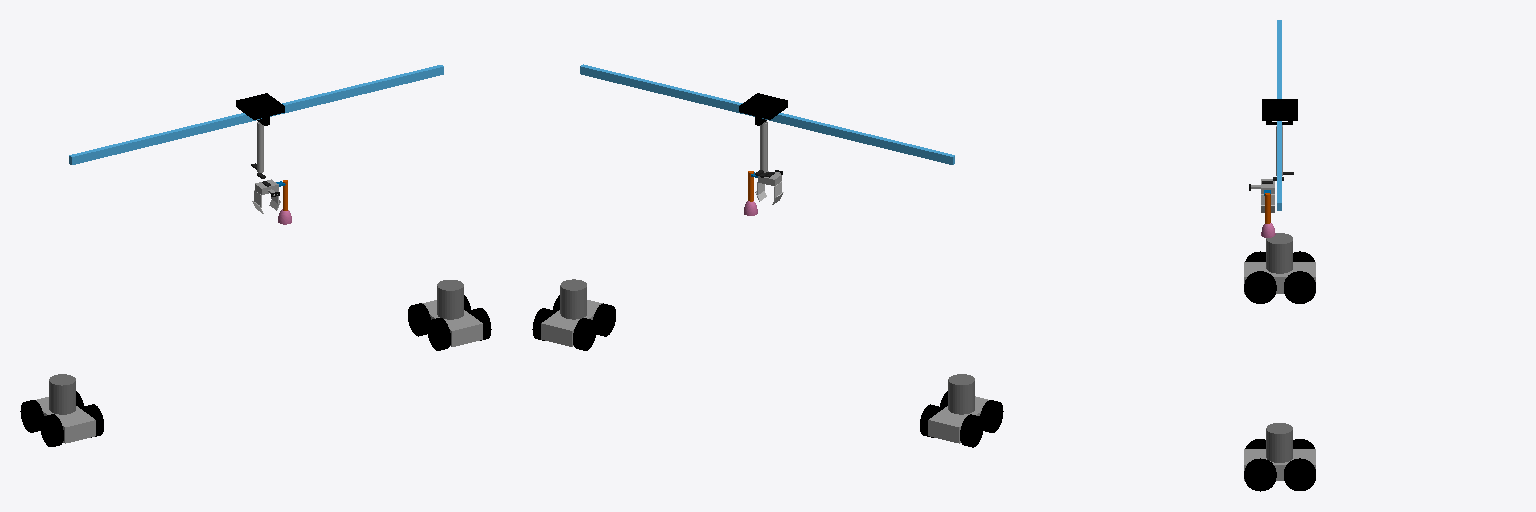
--- Render facts (derived) ---
3 views of the same robot in one strip: view 1: azimuth 30°, elevation 25°; view 2: azimuth 150°, elevation 25°; view 3: azimuth 270°, elevation 25° (orthographic).
Robot: bot — 50 links, 49 joints (1 revolute, 10 continuous, 5 prismatic, 33 fixed); root link Untitled.052; default pose: every joint at zero.
Visible links, largest first — view 1: Untitled.052, Untitled.004, Untitled.009, Untitled.046, Untitled.045, Untitled.026, Untitled.008, Untitled.017, Untitled.007, Untitled.011; view 2: Untitled.052, Untitled.004, Untitled.009, Untitled.046, Untitled.045, Untitled.026, Untitled.007, Untitled.011, Untitled.008, Untitled.017; view 3: Untitled.045, Untitled.046, Untitled.005, Untitled.015, Untitled.006, Untitled.013, Untitled.052, Untitled.026, Untitled.004, Untitled.009.
Link boxes in pixels (left/top/right/bottom): Untitled.052: left=69, top=65, right=443, bottom=164; Untitled.004: left=36, top=397, right=95, bottom=443; Untitled.009: left=422, top=300, right=482, bottom=346; Untitled.046: left=49, top=374, right=75, bottom=414; Untitled.045: left=437, top=280, right=463, bottom=319; Untitled.026: left=236, top=93, right=284, bottom=119; Untitled.008: left=40, top=414, right=63, bottom=446; Untitled.017: left=427, top=318, right=450, bottom=350; Untitled.007: left=20, top=400, right=43, bottom=432; Untitled.011: left=408, top=303, right=430, bottom=336; Untitled.052: left=580, top=64, right=954, bottom=164; Untitled.004: left=928, top=396, right=988, bottom=443; Untitled.009: left=541, top=300, right=602, bottom=346; Untitled.046: left=948, top=374, right=974, bottom=414; Untitled.045: left=560, top=279, right=586, bottom=319; Untitled.026: left=739, top=93, right=787, bottom=119; Untitled.007: left=960, top=414, right=983, bottom=447; Untitled.011: left=573, top=318, right=596, bottom=350; Untitled.008: left=980, top=400, right=1003, bottom=432; Untitled.017: left=593, top=303, right=615, bottom=336; Untitled.045: left=1266, top=423, right=1292, bottom=462; Untitled.046: left=1266, top=233, right=1292, bottom=273; Untitled.005: left=1244, top=271, right=1276, bottom=303; Untitled.015: left=1244, top=458, right=1276, bottom=491; Untitled.006: left=1284, top=271, right=1315, bottom=303; Untitled.013: left=1284, top=458, right=1315, bottom=490; Untitled.052: left=1277, top=20, right=1281, bottom=210; Untitled.026: left=1262, top=99, right=1297, bottom=120; Untitled.004: left=1244, top=262, right=1315, bottom=293; Untitled.009: left=1244, top=449, right=1315, bottom=480.
Size in the robot's own frame: 2.81 by 0.4022 by 1.74 metres.
Meshes: 10 distinct files referenced, 3 mesh visuals loaded (3 binary STL); not drawn: 7 (reference not matched to a file when rendering).

robot.urdf — bot:
<?xml version="1.0"?>
<!-- created with Phobos 1.0.1 "Capricious Choutengan" -->
  <robot name="bot">

    <link name="Untitled">
      <inertial>
        <origin xyz="0 0 0" rpy="0 0 0"/>
        <mass value="0.001"/>
        <inertia ixx="0.001" ixy="0" ixz="0" iyy="0.001" iyz="0" izz="0.001"/>
      </inertial>
    </link>

    <link name="Untitled.001">
      <inertial>
        <origin xyz="0 0 0" rpy="0 0 0"/>
        <mass value="0.001"/>
        <inertia ixx="0.001" ixy="0" ixz="0" iyy="0.001" iyz="0" izz="0.001"/>
      </inertial>
    </link>

    <link name="Untitled.002">
      <inertial>
        <origin xyz="0 0 0" rpy="0 0 0"/>
        <mass value="0.001"/>
        <inertia ixx="0.001" ixy="0" ixz="0" iyy="0.001" iyz="0" izz="0.001"/>
      </inertial>
    </link>

    <link name="Untitled.003">
      <inertial>
        <origin xyz="0 0 0" rpy="0 0 0"/>
        <mass value="0.001"/>
        <inertia ixx="0.001" ixy="0" ixz="0" iyy="0.001" iyz="0" izz="0.001"/>
      </inertial>
    </link>

    <link name="Untitled.004">
      <inertial>
        <origin xyz="0 0 0" rpy="0 0 0"/>
        <mass value="4.0"/>
        <inertia ixx="0.00043" ixy="0" ixz="0" iyy="0.00145" iyz="0" izz="0.06667"/>
      </inertial>
      <visual name="base link.000">
        <origin xyz="0 0 0" rpy="0 0 0"/>
        <geometry>
          <box size="0.4 0.2 0.1"/>
        </geometry>
        <material name="Material.005"/>
      </visual>
      <collision name="base link.000">
        <origin xyz="0 0 0" rpy="0 0 0"/>
        <geometry>
          <box size="0.4 0.2 0.1"/>
        </geometry>
      </collision>
    </link>

    <link name="Untitled.005">
      <inertial>
        <origin xyz="0 0 0" rpy="0 0 0"/>
        <mass value="0.25"/>
        <inertia ixx="7e-05" ixy="0" ixz="0" iyy="0.00013" iyz="0" izz="0.00056"/>
      </inertial>
      <visual name="bl Link.000">
        <origin xyz="-0.0022 0 0" rpy="-3.14159 0 0"/>
        <geometry>
          <cylinder radius="0.09" length="0.05"/>
        </geometry>
        <material name="Material.004"/>
      </visual>
      <collision name="bl Link.000">
        <origin xyz="-0.0022 0 0" rpy="-3.14159 0 0"/>
        <geometry>
          <cylinder radius="0.09" length="0.05"/>
        </geometry>
      </collision>
    </link>

    <link name="Untitled.006">
      <inertial>
        <origin xyz="0 0 0" rpy="0 0 0"/>
        <mass value="0.25"/>
        <inertia ixx="7e-05" ixy="0" ixz="0" iyy="0.00013" iyz="0" izz="0.00056"/>
      </inertial>
      <visual name="bl Link.002.000">
        <origin xyz="-0.0022 0 0" rpy="-3.14159 0 0"/>
        <geometry>
          <cylinder radius="0.09" length="0.05"/>
        </geometry>
        <material name="Material.001"/>
      </visual>
      <collision name="bl Link.002.000">
        <origin xyz="-0.0022 0 0" rpy="-3.14159 0 0"/>
        <geometry>
          <cylinder radius="0.09" length="0.05"/>
        </geometry>
      </collision>
    </link>

    <link name="Untitled.007">
      <inertial>
        <origin xyz="0 0 0" rpy="0 0 0"/>
        <mass value="0.25"/>
        <inertia ixx="7e-05" ixy="0" ixz="0" iyy="0.00013" iyz="0" izz="0.00056"/>
      </inertial>
      <visual name="bl Link.003.000">
        <origin xyz="-0.0022 0 0" rpy="0 0 0"/>
        <geometry>
          <cylinder radius="0.09" length="0.05"/>
        </geometry>
        <material name="Material.002"/>
      </visual>
      <collision name="bl Link.003.000">
        <origin xyz="-0.0022 0 0" rpy="0 0 0"/>
        <geometry>
          <cylinder radius="0.09" length="0.05"/>
        </geometry>
      </collision>
    </link>

    <link name="Untitled.008">
      <inertial>
        <origin xyz="0 0 0" rpy="0 0 0"/>
        <mass value="0.25"/>
        <inertia ixx="7e-05" ixy="0" ixz="0" iyy="0.00013" iyz="0" izz="0.00056"/>
      </inertial>
      <visual name="bl Link.001.000">
        <origin xyz="-0.0022 0 0" rpy="0 0 0"/>
        <geometry>
          <cylinder radius="0.09" length="0.05"/>
        </geometry>
        <material name="Material.003"/>
      </visual>
      <collision name="bl Link.001.000">
        <origin xyz="-0.0022 0 0" rpy="0 0 0"/>
        <geometry>
          <cylinder radius="0.09" length="0.05"/>
        </geometry>
      </collision>
    </link>

    <link name="Untitled.009">
      <inertial>
        <origin xyz="0 0 0" rpy="0 0 0"/>
        <mass value="4.0"/>
        <inertia ixx="0.00043" ixy="0" ixz="0" iyy="0.00145" iyz="0" izz="0.06667"/>
      </inertial>
      <visual name="base link.001">
        <origin xyz="0 0 0" rpy="0 0 0"/>
        <geometry>
          <box size="0.4 0.2 0.1"/>
        </geometry>
        <material name="Material.005"/>
      </visual>
      <collision name="base link.000">
        <origin xyz="0 0 0" rpy="0 0 0"/>
        <geometry>
          <box size="0.4 0.2 0.1"/>
        </geometry>
      </collision>
    </link>

    <link name="Untitled.010">
      <inertial>
        <origin xyz="0 0 0" rpy="0 0 0"/>
        <mass value="0.001"/>
        <inertia ixx="0.001" ixy="0" ixz="0" iyy="0.001" iyz="0" izz="0.001"/>
      </inertial>
    </link>

    <link name="Untitled.011">
      <inertial>
        <origin xyz="0 0 0" rpy="0 0 0"/>
        <mass value="0.25"/>
        <inertia ixx="7e-05" ixy="0" ixz="0" iyy="0.00013" iyz="0" izz="0.00056"/>
      </inertial>
      <visual name="bl Link.003.001">
        <origin xyz="-0.0022 0 0" rpy="0 0 0"/>
        <geometry>
          <cylinder radius="0.09" length="0.05"/>
        </geometry>
        <material name="Material.002"/>
      </visual>
      <collision name="bl Link.003.000">
        <origin xyz="-0.0022 0 0" rpy="0 0 0"/>
        <geometry>
          <cylinder radius="0.09" length="0.05"/>
        </geometry>
      </collision>
    </link>

    <link name="Untitled.012">
      <inertial>
        <origin xyz="0 0 0" rpy="0 0 0"/>
        <mass value="0.001"/>
        <inertia ixx="0.001" ixy="0" ixz="0" iyy="0.001" iyz="0" izz="0.001"/>
      </inertial>
    </link>

    <link name="Untitled.013">
      <inertial>
        <origin xyz="0 0 0" rpy="0 0 0"/>
        <mass value="0.25"/>
        <inertia ixx="7e-05" ixy="0" ixz="0" iyy="0.00013" iyz="0" izz="0.00056"/>
      </inertial>
      <visual name="bl Link.002.001">
        <origin xyz="-0.0022 0 0" rpy="-3.14159 0 0"/>
        <geometry>
          <cylinder radius="0.09" length="0.05"/>
        </geometry>
        <material name="Material.001"/>
      </visual>
      <collision name="bl Link.002.000">
        <origin xyz="-0.0022 0 0" rpy="-3.14159 0 0"/>
        <geometry>
          <cylinder radius="0.09" length="0.05"/>
        </geometry>
      </collision>
    </link>

    <link name="Untitled.014">
      <inertial>
        <origin xyz="0 0 0" rpy="0 0 0"/>
        <mass value="0.001"/>
        <inertia ixx="0.001" ixy="0" ixz="0" iyy="0.001" iyz="0" izz="0.001"/>
      </inertial>
    </link>

    <link name="Untitled.015">
      <inertial>
        <origin xyz="0 0 0" rpy="0 0 0"/>
        <mass value="0.25"/>
        <inertia ixx="7e-05" ixy="0" ixz="0" iyy="0.00013" iyz="0" izz="0.00056"/>
      </inertial>
      <visual name="bl Link.001">
        <origin xyz="-0.0022 0 0" rpy="-3.14159 0 0"/>
        <geometry>
          <cylinder radius="0.09" length="0.05"/>
        </geometry>
        <material name="Material.004"/>
      </visual>
      <collision name="bl Link.000">
        <origin xyz="-0.0022 0 0" rpy="-3.14159 0 0"/>
        <geometry>
          <cylinder radius="0.09" length="0.05"/>
        </geometry>
      </collision>
    </link>

    <link name="Untitled.016">
      <inertial>
        <origin xyz="0 0 0" rpy="0 0 0"/>
        <mass value="0.001"/>
        <inertia ixx="0.001" ixy="0" ixz="0" iyy="0.001" iyz="0" izz="0.001"/>
      </inertial>
    </link>

    <link name="Untitled.017">
      <inertial>
        <origin xyz="0 0 0" rpy="0 0 0"/>
        <mass value="0.25"/>
        <inertia ixx="7e-05" ixy="0" ixz="0" iyy="0.00013" iyz="0" izz="0.00056"/>
      </inertial>
      <visual name="bl Link.001.001">
        <origin xyz="-0.0022 0 0" rpy="0 0 0"/>
        <geometry>
          <cylinder radius="0.09" length="0.05"/>
        </geometry>
        <material name="Material.003"/>
      </visual>
      <collision name="bl Link.001.000">
        <origin xyz="-0.0022 0 0" rpy="0 0 0"/>
        <geometry>
          <cylinder radius="0.09" length="0.05"/>
        </geometry>
      </collision>
    </link>

    <link name="Untitled.021">
      <inertial>
        <origin xyz="0 0 0.01" rpy="0 0 0"/>
        <mass value="0.01"/>
        <inertia ixx="2e-05" ixy="0" ixz="0" iyy="2e-05" iyz="0" izz="2e-05"/>
      </inertial>
      <visual name="Cube.003">
        <origin xyz="0 0 0.01" rpy="0 0 0"/>
        <geometry>
          <box size="0.15 0.03 0.01"/>
        </geometry>
        <material name="Material.009"/>
      </visual>
      <collision name="Cube.003">
        <origin xyz="0 0 0.01" rpy="0 0 0"/>
        <geometry>
          <box size="0.15 0.03 0.01"/>
        </geometry>
      </collision>
    </link>

    <link name="Untitled.022">
      <inertial>
        <origin xyz="0 0 0" rpy="0 0 0"/>
        <mass value="0.05"/>
        <inertia ixx="2e-05" ixy="0" ixz="0" iyy="2e-05" iyz="0" izz="2e-05"/>
      </inertial>
      <visual name="Cube.002">
        <origin xyz="0 0 0" rpy="0 0 0"/>
        <geometry>
          <box size="0.03 0.03 0.06"/>
        </geometry>
        <material name="Material.010"/>
      </visual>
      <collision name="Cube.002">
        <origin xyz="0 0 0" rpy="0 0 0"/>
        <geometry>
          <box size="0.03 0.03 0.06"/>
        </geometry>
      </collision>
    </link>

    <link name="Untitled.023">
      <inertial>
        <origin xyz="0 0 0" rpy="0 0 0"/>
        <mass value="0.05"/>
        <inertia ixx="2e-05" ixy="0" ixz="0" iyy="2e-05" iyz="0" izz="2e-05"/>
      </inertial>
      <visual name="Cube.001">
        <origin xyz="0 0 0" rpy="0 0 0"/>
        <geometry>
          <box size="0.03 0.03 0.06"/>
        </geometry>
        <material name="Material.010"/>
      </visual>
      <collision name="Cube.001">
        <origin xyz="0 0 0" rpy="0 0 0"/>
        <geometry>
          <box size="0.03 0.03 0.06"/>
        </geometry>
      </collision>
    </link>

    <link name="Untitled.024">
      <inertial>
        <origin xyz="0 0 0" rpy="0 0 0"/>
        <mass value="0.001"/>
        <inertia ixx="0.001" ixy="0" ixz="0" iyy="0.001" iyz="0" izz="0.001"/>
      </inertial>
    </link>

    <link name="Untitled.025">
      <inertial>
        <origin xyz="0 0 0" rpy="0 0 0"/>
        <mass value="0.001"/>
        <inertia ixx="0.001" ixy="0" ixz="0" iyy="0.001" iyz="0" izz="0.001"/>
      </inertial>
    </link>

    <link name="Untitled.026">
      <inertial>
        <origin xyz="0 0 0" rpy="0 0 0"/>
        <mass value="0.5"/>
        <inertia ixx="2e-05" ixy="0" ixz="0" iyy="2e-05" iyz="0" izz="2e-05"/>
      </inertial>
      <visual name="Cube">
        <origin xyz="0 0 0" rpy="-1.5708 0 0"/>
        <geometry>
          <box size="0.2 0.2 0.04"/>
        </geometry>
        <material name="Material.008"/>
      </visual>
      <collision name="Cube">
        <origin xyz="0 0 0" rpy="-1.5708 0 0"/>
        <geometry>
          <box size="0.2 0.2 0.04"/>
        </geometry>
      </collision>
    </link>

    <link name="Untitled.027">
      <inertial>
        <origin xyz="0 0 0" rpy="0 0 0"/>
        <mass value="0.5"/>
        <inertia ixx="0.00286" ixy="0" ixz="0" iyy="0.00286" iyz="0" izz="0.0001"/>
      </inertial>
      <visual name="base link">
        <origin xyz="0 0 0" rpy="0 0 0"/>
        <geometry>
          <mesh filename="base link.006.stl" scale="1.0 1.0 1.0"/>
        </geometry>
        <material name="Material.011"/>
      </visual>
      <collision name="base link.000.001.002">
        <origin xyz="0 0.00061 0" rpy="0 0 0"/>
        <geometry>
          <mesh filename="base link.009.stl" scale="1.0 1.0 1.0"/>
        </geometry>
      </collision>
    </link>

    <link name="Untitled.028">
      <inertial>
        <origin xyz="0 0 0.02952" rpy="0 0 0"/>
        <mass value="0.5"/>
        <inertia ixx="0.00377" ixy="0" ixz="0" iyy="0.00377" iyz="0" izz="4e-05"/>
      </inertial>
      <visual name="inner Link">
        <origin xyz="0 0 0.02952" rpy="0 0 0"/>
        <geometry>
          <mesh filename="inner Link.stl" scale="1.0 1.0 1.0"/>
        </geometry>
        <material name="Material.012"/>
      </visual>
      <collision name="inner Link.000">
        <origin xyz="0 0 0.02952" rpy="0 0 0"/>
        <geometry>
          <mesh filename="inner Link.003.stl" scale="1.0 1.0 1.0"/>
        </geometry>
      </collision>
    </link>

    <link name="Untitled.029">
      <inertial>
        <origin xyz="0 0 0" rpy="0 0 0"/>
        <mass value="0.1"/>
        <inertia ixx="2e-05" ixy="0" ixz="0" iyy="2e-05" iyz="0" izz="2e-05"/>
      </inertial>
      <visual name="Cube.004">
        <origin xyz="0 0 0" rpy="0 0 0"/>
        <geometry>
          <box size="0.06 0.026 0.01"/>
        </geometry>
        <material name="Material.013"/>
      </visual>
      <collision name="Cube.004">
        <origin xyz="0 0 0" rpy="0 0 0"/>
        <geometry>
          <box size="0.06 0.026 0.01"/>
        </geometry>
      </collision>
    </link>

    <link name="Untitled.030">
      <inertial>
        <origin xyz="0 0 0" rpy="0 0 0"/>
        <mass value="0.5"/>
        <inertia ixx="0.00286" ixy="0" ixz="0" iyy="0.00286" iyz="0" izz="0.0001"/>
      </inertial>
      <visual name="base link.003">
        <origin xyz="0 0 0" rpy="0 0 0"/>
        <geometry>
          <mesh filename="base link.007.stl" scale="1.0 1.0 1.0"/>
        </geometry>
        <material name="Material.014"/>
      </visual>
      <collision name="base link.003.000">
        <origin xyz="0 0 0" rpy="0 0 0"/>
        <geometry>
          <mesh filename="base link.010.stl" scale="1.0 1.0 1.0"/>
        </geometry>
      </collision>
    </link>

    <link name="Untitled.031">
      <inertial>
        <origin xyz="0 0 0" rpy="0 0 0"/>
        <mass value="0.5"/>
        <inertia ixx="0.00377" ixy="0" ixz="0" iyy="0.00377" iyz="0" izz="4e-05"/>
      </inertial>
      <visual name="inner Link.001">
        <origin xyz="0 0 0" rpy="0 0 0"/>
        <geometry>
          <mesh filename="inner Link.001.stl" scale="1.0 1.0 1.0"/>
        </geometry>
        <material name="Material.015"/>
      </visual>
      <collision name="inner Link.001.000">
        <origin xyz="0 0 0" rpy="0 0 0"/>
        <geometry>
          <mesh filename="inner Link.004.stl" scale="1.0 1.0 1.0"/>
        </geometry>
      </collision>
    </link>

    <link name="Untitled.032">
      <inertial>
        <origin xyz="0 0 0" rpy="0 0 0"/>
        <mass value="0.1"/>
        <inertia ixx="2e-05" ixy="0" ixz="0" iyy="2e-05" iyz="0" izz="2e-05"/>
      </inertial>
      <visual name="Cube.005">
        <origin xyz="0 0 0" rpy="0 0 0"/>
        <geometry>
          <box size="0.06 0.026 0.01"/>
        </geometry>
        <material name="Material.016"/>
      </visual>
      <collision name="Cube.005">
        <origin xyz="0 0 0" rpy="0 0 0"/>
        <geometry>
          <box size="0.06 0.026 0.01"/>
        </geometry>
      </collision>
    </link>

    <link name="Untitled.033">
      <inertial>
        <origin xyz="0 0 0" rpy="0 0 0"/>
        <mass value="0.5"/>
        <inertia ixx="0.00286" ixy="0" ixz="0" iyy="0.00286" iyz="0" izz="0.0001"/>
      </inertial>
      <visual name="base link.004">
        <origin xyz="0 0 0" rpy="0 0 0"/>
        <geometry>
          <mesh filename="base link.008.stl" scale="1.0 1.0 1.0"/>
        </geometry>
        <material name="Material.017"/>
      </visual>
      <collision name="base link.004.000">
        <origin xyz="0 0 0" rpy="0 0 0"/>
        <geometry>
          <mesh filename="base link.011.stl" scale="1.0 1.0 1.0"/>
        </geometry>
      </collision>
    </link>

    <link name="Untitled.034">
      <inertial>
        <origin xyz="0 0 0" rpy="0 0 0"/>
        <mass value="0.5"/>
        <inertia ixx="0.00377" ixy="0" ixz="0" iyy="0.00377" iyz="0" izz="4e-05"/>
      </inertial>
      <visual name="inner Link.002">
        <origin xyz="0 0 0" rpy="0 0 0"/>
        <geometry>
          <mesh filename="inner Link.002.stl" scale="1.0 1.0 1.0"/>
        </geometry>
        <material name="Material.018"/>
      </visual>
      <collision name="inner Link.002.000">
        <origin xyz="0 0 0" rpy="0 0 0"/>
        <geometry>
          <mesh filename="inner Link.005.stl" scale="1.0 1.0 1.0"/>
        </geometry>
      </collision>
    </link>

    <link name="Untitled.035">
      <inertial>
        <origin xyz="0 0 0" rpy="0 0 0"/>
        <mass value="0.1"/>
        <inertia ixx="2e-05" ixy="0" ixz="0" iyy="2e-05" iyz="0" izz="2e-05"/>
      </inertial>
      <visual name="Cube.006">
        <origin xyz="0 0 0" rpy="0 0 0"/>
        <geometry>
          <box size="0.06 0.026 0.01"/>
        </geometry>
        <material name="Material.019"/>
      </visual>
      <collision name="Cube.006">
        <origin xyz="0 0 0" rpy="0 0 0"/>
        <geometry>
          <box size="0.06 0.026 0.01"/>
        </geometry>
      </collision>
    </link>

    <link name="Untitled.036">
      <inertial>
        <origin xyz="0 0 0" rpy="0 0 0"/>
        <mass value="0.3"/>
        <inertia ixx="2e-05" ixy="0" ixz="0" iyy="2e-05" iyz="0" izz="2e-05"/>
      </inertial>
      <visual name="Cube.007">
        <origin xyz="0 0 0" rpy="0 0 0"/>
        <geometry>
          <box size="0.08 0.11 0.04"/>
        </geometry>
        <material name="Material.020"/>
      </visual>
      <collision name="Cube.007">
        <origin xyz="0 0 0" rpy="0 0 0"/>
        <geometry>
          <box size="0.06 0.055 0.04"/>
        </geometry>
      </collision>
    </link>

    <link name="Untitled.037">
      <inertial>
        <origin xyz="0 0 0" rpy="0 0 0"/>
        <mass value="0.01"/>
        <inertia ixx="2e-05" ixy="0" ixz="0" iyy="2e-05" iyz="0" izz="2e-05"/>
      </inertial>
      <visual name="Cube.009">
        <origin xyz="0 0 0" rpy="0 0 0"/>
        <geometry>
          <box size="0.08 0.005 0.06"/>
        </geometry>
        <material name="Material.021"/>
      </visual>
      <collision name="Cube.009">
        <origin xyz="0 0 0" rpy="0 0 0"/>
        <geometry>
          <box size="0.08 0.005 0.06"/>
        </geometry>
      </collision>
    </link>

    <link name="Untitled.038">
      <inertial>
        <origin xyz="0 0 0" rpy="0 0 0"/>
        <mass value="0.05"/>
        <inertia ixx="2e-05" ixy="0" ixz="0" iyy="2e-05" iyz="0" izz="2e-05"/>
      </inertial>
      <visual name="Cube.008">
        <origin xyz="0 0 0" rpy="-1.5708 0 0"/>
        <geometry>
          <box size="0.08 0.005 0.08"/>
        </geometry>
        <material name="Material.022"/>
      </visual>
      <collision name="Cube.008">
        <origin xyz="0 0 0" rpy="-1.5708 0 0"/>
        <geometry>
          <box size="0.08 0.005 0.08"/>
        </geometry>
      </collision>
    </link>

    <link name="Untitled.039">
      <inertial>
        <origin xyz="0 0 0" rpy="0 0 0"/>
        <mass value="0.01"/>
        <inertia ixx="2e-05" ixy="0" ixz="0" iyy="2e-05" iyz="0" izz="2e-05"/>
      </inertial>
      <visual name="Cube.011">
        <origin xyz="0 0 0" rpy="0 0 0"/>
        <geometry>
          <box size="0.08 0.005 0.06"/>
        </geometry>
        <material name="Material.024"/>
      </visual>
      <collision name="Cube.011">
        <origin xyz="0 0 0" rpy="0 0 0"/>
        <geometry>
          <box size="0.08 0.005 0.06"/>
        </geometry>
      </collision>
    </link>

    <link name="Untitled.040">
      <inertial>
        <origin xyz="0 0 0" rpy="0 0 0"/>
        <mass value="0.05"/>
        <inertia ixx="2e-05" ixy="0" ixz="0" iyy="2e-05" iyz="0" izz="2e-05"/>
      </inertial>
      <visual name="Cube.010">
        <origin xyz="0 0 0" rpy="1.5708 0 0"/>
        <geometry>
          <box size="0.08 0.005 0.08"/>
        </geometry>
        <material name="Material.023"/>
      </visual>
      <collision name="Cube.010">
        <origin xyz="0 0 0" rpy="1.5708 0 0"/>
        <geometry>
          <box size="0.08 0.005 0.08"/>
        </geometry>
      </collision>
    </link>

    <link name="Untitled.041">
      <inertial>
        <origin xyz="0 0 0" rpy="0 0 0"/>
        <mass value="0.005"/>
        <inertia ixx="2e-05" ixy="0" ixz="0" iyy="2e-05" iyz="0" izz="2e-05"/>
      </inertial>
      <visual name="Cube.012.000">
        <origin xyz="0 0 0" rpy="0 0 0"/>
        <geometry>
          <box size="0.06 0.026 0.01"/>
        </geometry>
        <material name="Material.025"/>
      </visual>
      <collision name="Cube.012.000">
        <origin xyz="0 0 0" rpy="0 0 0"/>
        <geometry>
          <box size="0.06 0.026 0.01"/>
        </geometry>
      </collision>
    </link>

    <link name="Untitled.042">
      <inertial>
        <origin xyz="0 0 0.01" rpy="0 0 0"/>
        <mass value="0.005"/>
        <inertia ixx="2e-05" ixy="0" ixz="0" iyy="2e-05" iyz="0" izz="2e-05"/>
      </inertial>
      <visual name="Cube.013">
        <origin xyz="0 0 0.01" rpy="-1.5708 0 -1.5708"/>
        <geometry>
          <box size="0.02 0.05 0.01"/>
        </geometry>
        <material name="Material.026"/>
      </visual>
      <collision name="Cube.013">
        <origin xyz="0 0 0.01" rpy="-1.5708 0 -1.5708"/>
        <geometry>
          <box size="0.02 0.05 0.01"/>
        </geometry>
      </collision>
    </link>

    <link name="Untitled.043">
      <inertial>
        <origin xyz="0 0 0" rpy="0 0 0"/>
        <mass value="0.001"/>
        <inertia ixx="0.001" ixy="0" ixz="0" iyy="0.001" iyz="0" izz="0.001"/>
      </inertial>
      <visual name="Cylinder.001">
        <origin xyz="0 0 0" rpy="0 0 0"/>
        <geometry>
          <cylinder radius="0.005" length="0.01"/>
        </geometry>
        <material name="Material.027"/>
      </visual>
    </link>

    <link name="Untitled.044">
      <inertial>
        <origin xyz="0 0 0" rpy="0 0 0"/>
        <mass value="0.001"/>
        <inertia ixx="0.001" ixy="0" ixz="0" iyy="0.001" iyz="0" izz="0.001"/>
      </inertial>
      <visual name="Cylinder">
        <origin xyz="0 0 0" rpy="0 0 0"/>
        <geometry>
          <cylinder radius="0.005" length="0.01"/>
        </geometry>
        <material name="Material.027"/>
      </visual>
    </link>

    <link name="Untitled.045">
      <inertial>
        <origin xyz="0 0 0" rpy="0 0 0"/>
        <mass value="1.0"/>
        <inertia ixx="2e-05" ixy="0" ixz="0" iyy="1e-05" iyz="0" izz="3e-05"/>
      </inertial>
      <visual name="Cylinder.003">
        <origin xyz="0 0 0" rpy="0 0 0"/>
        <geometry>
          <cylinder radius="0.075" length="0.18"/>
        </geometry>
        <material name="Material.028"/>
      </visual>
      <collision name="Cylinder.003">
        <origin xyz="0 0 0" rpy="0 0 0"/>
        <geometry>
          <cylinder radius="0.075" length="0.18"/>
        </geometry>
      </collision>
    </link>

    <link name="Untitled.046">
      <inertial>
        <origin xyz="0 0 0" rpy="0 0 0"/>
        <mass value="1.0"/>
        <inertia ixx="2e-05" ixy="0" ixz="0" iyy="2e-05" iyz="0" izz="2e-05"/>
      </inertial>
      <visual name="Cylinder.002">
        <origin xyz="0 0 0" rpy="0 0 0"/>
        <geometry>
          <cylinder radius="0.075" length="0.18"/>
        </geometry>
        <material name="Material.028"/>
      </visual>
      <collision name="Cylinder.002.000">
        <origin xyz="0 0 0" rpy="0 0 0"/>
        <geometry>
          <mesh filename="Cylinder.020.stl" scale="1.0 1.0 1.0"/>
        </geometry>
      </collision>
    </link>

    <link name="Untitled.047">
      <inertial>
        <origin xyz="0 0 0" rpy="0 0 0"/>
        <mass value="0.01"/>
        <inertia ixx="2e-05" ixy="0" ixz="0" iyy="2e-05" iyz="0" izz="2e-05"/>
      </inertial>
      <visual name="Cube.012">
        <origin xyz="0 0 0" rpy="0 0 0"/>
        <geometry>
          <box size="0.04 0.06 0.01"/>
        </geometry>
      </visual>
      <collision name="Cube.012">
        <origin xyz="0 0 0" rpy="0 0 0"/>
        <geometry>
          <box size="0.04 0.06 0.01"/>
        </geometry>
      </collision>
    </link>

    <link name="Untitled.048">
      <inertial>
        <origin xyz="0 -0.09 0.01" rpy="0 0 0"/>
        <mass value="0.01"/>
        <inertia ixx="2e-05" ixy="0" ixz="0" iyy="2e-05" iyz="0" izz="2e-05"/>
      </inertial>
      <visual name="Cylinder.004">
        <origin xyz="0 -0.09 0.01" rpy="-1.5708 0 0"/>
        <geometry>
          <cylinder radius="0.015" length="0.2"/>
        </geometry>
      </visual>
      <collision name="Cylinder.004.000">
        <origin xyz="0 -0.09 0.01" rpy="-1.5708 0 0"/>
        <geometry>
          <mesh filename="Cylinder.014.stl" scale="1.0 1.0 1.0"/>
        </geometry>
      </collision>
    </link>

    <link name="Untitled.049">
      <inertial>
        <origin xyz="0 0 0" rpy="0 0 0"/>
        <mass value="0.01"/>
        <inertia ixx="2e-05" ixy="0" ixz="0" iyy="2e-05" iyz="0" izz="2e-05"/>
      </inertial>
      <visual name="Half Sphere 2">
        <origin xyz="0 0 0" rpy="0 0 0"/>
        <geometry>
          <mesh filename="Half Sphere 2.stl" scale="0.01303 0.02605 0.01303"/>
        </geometry>
      </visual>
      <collision name="Half Sphere 2.000">
        <origin xyz="0 0 0" rpy="0 0 0"/>
        <geometry>
          <mesh filename="Half Sphere 2.001.stl" scale="1.0 1.0 1.0"/>
        </geometry>
      </collision>
    </link>

    <link name="Untitled.050">
      <inertial>
        <origin xyz="0 0 -0.74" rpy="0 0 0"/>
        <mass value="2.0"/>
        <inertia ixx="0.54185" ixy="0" ixz="0" iyy="0.54185" iyz="0" izz="0.00176"/>
      </inertial>
      <visual name="vertical rod.001">
        <origin xyz="0 0 -0.74" rpy="1.5708 0 0"/>
        <geometry>
          <mesh filename="vertical rod.001.stl" scale="1.0 1.0 1.0"/>
        </geometry>
      </visual>
      <collision name="vertical rod.001.000">
        <origin xyz="0 0 -0.74" rpy="1.5708 0 0"/>
        <geometry>
          <mesh filename="vertical rod.002.stl" scale="1.0 1.0 1.0"/>
        </geometry>
      </collision>
    </link>

    <link name="Untitled.051">
      <inertial>
        <origin xyz="0 0 -0.74" rpy="0 0 0"/>
        <mass value="2.0"/>
        <inertia ixx="0.54185" ixy="0" ixz="0" iyy="0.54185" iyz="0" izz="0.00176"/>
      </inertial>
      <visual name="vertical rod">
        <origin xyz="0 0 -0.74" rpy="1.5708 0 0"/>
        <geometry>
          <mesh filename="vertical rod.stl" scale="1.0 1.0 1.0"/>
        </geometry>
      </visual>
      <collision name="vertical rod.000">
        <origin xyz="0 0 -0.74" rpy="1.5708 0 0"/>
        <geometry>
          <mesh filename="vertical rod.003.stl" scale="1.0 1.0 1.0"/>
        </geometry>
      </collision>
    </link>

    <link name="Untitled.052">
      <inertial>
        <origin xyz="0 0 0" rpy="0 0 0"/>
        <mass value="2.0"/>
        <inertia ixx="1.00174" ixy="0" ixz="0" iyy="0.00057" iyz="0" izz="0.92057"/>
      </inertial>
      <visual name="horizantal rod">
        <origin xyz="0 0 0" rpy="0 0 0"/>
        <geometry>
          <mesh filename="horizantal rod.stl" scale="1.02128 1.0 1.0"/>
        </geometry>
      </visual>
      <collision name="horizantal rod.000">
        <origin xyz="0 0 0" rpy="0 0 0"/>
        <geometry>
          <mesh filename="horizantal rod.001.stl" scale="1.0 1.0 1.0"/>
        </geometry>
      </collision>
    </link>

    <joint name="Untitled" type="fixed">
      <origin xyz="-0.11 0.06 0" rpy="1.5708 0 0"/>
      <parent link="Untitled.004"/>
      <child link="Untitled"/>
    </joint>

    <joint name="Untitled.001" type="fixed">
      <origin xyz="-0.11 -0.06 0" rpy="-1.5708 0 0"/>
      <parent link="Untitled.004"/>
      <child link="Untitled.001"/>
    </joint>

    <joint name="Untitled.002" type="fixed">
      <origin xyz="0.11 0.06 0" rpy="1.5708 0 0"/>
      <parent link="Untitled.004"/>
      <child link="Untitled.002"/>
    </joint>

    <joint name="Untitled.003" type="fixed">
      <origin xyz="0.11 -0.06 0" rpy="-1.5708 0 0"/>
      <parent link="Untitled.004"/>
      <child link="Untitled.003"/>
    </joint>

    <joint name="Untitled.004" type="fixed">
      <origin xyz="0 0 -1.575" rpy="0 0 0"/>
      <parent link="Untitled.051"/>
      <child link="Untitled.004"/>
    </joint>

    <joint name="Untitled.005" type="continuous">
      <origin xyz="0 0 -0.07" rpy="3.14159 0 0"/>
      <parent link="Untitled.002"/>
      <child link="Untitled.005"/>
      <axis xyz="0 0 1.0"/>
      <limit effort="0.1" velocity="1.5"/>
    </joint>

    <joint name="Untitled.006" type="continuous">
      <origin xyz="0 0 -0.07" rpy="3.14159 0 0"/>
      <parent link="Untitled"/>
      <child link="Untitled.006"/>
      <axis xyz="0 0 1.0"/>
      <limit effort="0.1" velocity="1.5"/>
    </joint>

    <joint name="Untitled.007" type="continuous">
      <origin xyz="0 0 -0.07" rpy="-3.14159 0 0"/>
      <parent link="Untitled.001"/>
      <child link="Untitled.007"/>
      <axis xyz="0 0 1.0"/>
      <limit effort="0.1" velocity="1.5"/>
    </joint>

    <joint name="Untitled.008" type="continuous">
      <origin xyz="0 0 -0.07" rpy="-3.14159 0 0"/>
      <parent link="Untitled.003"/>
      <child link="Untitled.008"/>
      <axis xyz="0 0 1.0"/>
      <limit effort="0.1" velocity="1.5"/>
    </joint>

    <joint name="Untitled.009" type="fixed">
      <origin xyz="0 -0.005 -1.5626" rpy="0 0 0"/>
      <parent link="Untitled.050"/>
      <child link="Untitled.009"/>
    </joint>

    <joint name="Untitled.010" type="fixed">
      <origin xyz="-0.11 -0.06 0" rpy="-1.5708 0 0"/>
      <parent link="Untitled.009"/>
      <child link="Untitled.010"/>
    </joint>

    <joint name="Untitled.011" type="continuous">
      <origin xyz="0 0 -0.07" rpy="-3.14159 0 0"/>
      <parent link="Untitled.010"/>
      <child link="Untitled.011"/>
      <axis xyz="0 0 1.0"/>
      <limit effort="0.1" velocity="1.5"/>
    </joint>

    <joint name="Untitled.012" type="fixed">
      <origin xyz="-0.11 0.06 0" rpy="1.5708 0 0"/>
      <parent link="Untitled.009"/>
      <child link="Untitled.012"/>
    </joint>

    <joint name="Untitled.013" type="continuous">
      <origin xyz="0 0 -0.07" rpy="3.14159 0 0"/>
      <parent link="Untitled.012"/>
      <child link="Untitled.013"/>
      <axis xyz="0 0 1.0"/>
      <limit effort="0.1" velocity="1.5"/>
    </joint>

    <joint name="Untitled.014" type="fixed">
      <origin xyz="0.11 0.06 0" rpy="1.5708 0 0"/>
      <parent link="Untitled.009"/>
      <child link="Untitled.014"/>
    </joint>

    <joint name="Untitled.015" type="continuous">
      <origin xyz="0 0 -0.07" rpy="3.14159 0 0"/>
      <parent link="Untitled.014"/>
      <child link="Untitled.015"/>
      <axis xyz="0 0 1.0"/>
      <limit effort="0.1" velocity="1.5"/>
    </joint>

    <joint name="Untitled.016" type="fixed">
      <origin xyz="0.11 -0.06 0" rpy="-1.5708 0 0"/>
      <parent link="Untitled.009"/>
      <child link="Untitled.016"/>
    </joint>

    <joint name="Untitled.017" type="continuous">
      <origin xyz="0 0 -0.07" rpy="-3.14159 0 0"/>
      <parent link="Untitled.016"/>
      <child link="Untitled.017"/>
      <axis xyz="0 0 1.0"/>
      <limit effort="0.1" velocity="1.5"/>
    </joint>

    <joint name="Untitled.021" type="fixed">
      <origin xyz="0.06656 -0.00819 -0.00718" rpy="0 0 0"/>
      <parent link="Untitled.024"/>
      <child link="Untitled.021"/>
    </joint>

    <joint name="Untitled.022" type="fixed">
      <origin xyz="-0.06 -0.05371 0" rpy="-1.5708 0 0"/>
      <parent link="Untitled.026"/>
      <child link="Untitled.022"/>
    </joint>

    <joint name="Untitled.023" type="fixed">
      <origin xyz="0.06 -0.05371 0" rpy="-1.5708 0 0"/>
      <parent link="Untitled.026"/>
      <child link="Untitled.023"/>
    </joint>

    <joint name="Untitled.024" type="fixed">
      <origin xyz="-0.00656 0.00819 -0.03142" rpy="0 0 0"/>
      <parent link="Untitled.022"/>
      <child link="Untitled.024"/>
    </joint>

    <joint name="Untitled.025" type="fixed">
      <origin xyz="0.00237 -0.00899 -0.03609" rpy="0 0 0"/>
      <parent link="Untitled.023"/>
      <child link="Untitled.025"/>
    </joint>

    <joint name="Untitled.026" type="prismatic">
      <origin xyz="0.025 0 0.04555" rpy="1.5708 0 -1.5708"/>
      <parent link="Untitled.052"/>
      <child link="Untitled.026"/>
      <axis xyz="0 0 1.0"/>
      <limit lower="-1.2931" upper="1.29" effort="0.1" velocity="1.0"/>
    </joint>

    <joint name="Untitled.027" type="fixed">
      <origin xyz="0.00656 -0.00819 -0.15126" rpy="0 0 0"/>
      <parent link="Untitled.024"/>
      <child link="Untitled.027"/>
    </joint>

    <joint name="Untitled.028" type="prismatic">
      <origin xyz="0 0 -0.02468" rpy="0 0 0"/>
      <parent link="Untitled.027"/>
      <child link="Untitled.028"/>
      <axis xyz="0 0 1.0"/>
      <limit lower="-1.2931" upper="1.29" effort="0.1" velocity="1.0"/>
    </joint>

    <joint name="Untitled.029" type="fixed">
      <origin xyz="0.01 0 -0.12848" rpy="0 0 0"/>
      <parent link="Untitled.028"/>
      <child link="Untitled.029"/>
    </joint>

    <joint name="Untitled.030" type="fixed">
      <origin xyz="0.05 0 0.14075" rpy="0 0 0"/>
      <parent link="Untitled.029"/>
      <child link="Untitled.030"/>
    </joint>

    <joint name="Untitled.031" type="prismatic">
      <origin xyz="0 0 -0.02247" rpy="0 0 0"/>
      <parent link="Untitled.030"/>
      <child link="Untitled.031"/>
      <axis xyz="0 0 1.0"/>
      <limit lower="-1.2931" upper="1.29" effort="0.1" velocity="1.0"/>
    </joint>

    <joint name="Untitled.032" type="fixed">
      <origin xyz="0.00738 0.0014 -0.1528" rpy="0 0 0"/>
      <parent link="Untitled.031"/>
      <child link="Untitled.032"/>
    </joint>

    <joint name="Untitled.033" type="fixed">
      <origin xyz="0.05262 -0.0014 0.13993" rpy="0 0 0"/>
      <parent link="Untitled.032"/>
      <child link="Untitled.033"/>
    </joint>

    <joint name="Untitled.034" type="prismatic">
      <origin xyz="0 0 -0.01" rpy="0 0 0"/>
      <parent link="Untitled.033"/>
      <child link="Untitled.034"/>
      <axis xyz="0 0 1.0"/>
      <limit lower="-1.2931" upper="1.29" effort="0.1" velocity="1.0"/>
    </joint>

    <joint name="Untitled.035" type="fixed">
      <origin xyz="0.00989 -0.00047 -0.15397" rpy="0 0 0"/>
      <parent link="Untitled.034"/>
      <child link="Untitled.035"/>
    </joint>

    <joint name="Untitled.036" type="continuous">
      <origin xyz="-0.00332 0.00214 -0.02292" rpy="0 0 0"/>
      <parent link="Untitled.035"/>
      <child link="Untitled.036"/>
      <axis xyz="0 0 1.0"/>
      <limit effort="0.1" velocity="1.0"/>
    </joint>

    <joint name="Untitled.037" type="fixed">
      <origin xyz="0 -0.05 0" rpy="-1.13446 0 0"/>
      <parent link="Untitled.038"/>
      <child link="Untitled.037"/>
    </joint>

    <joint name="Untitled.038" type="fixed">
      <origin xyz="0 -0.055 -0.06044" rpy="1.5708 0 0"/>
      <parent link="Untitled.036"/>
      <child link="Untitled.038"/>
    </joint>

    <joint name="Untitled.039" type="fixed">
      <origin xyz="0 0.05 0" rpy="1.13446 0 0"/>
      <parent link="Untitled.040"/>
      <child link="Untitled.039"/>
    </joint>

    <joint name="Untitled.040" type="prismatic">
      <origin xyz="0 0.055 -0.06044" rpy="-1.5708 0 0"/>
      <parent link="Untitled.036"/>
      <child link="Untitled.040"/>
      <axis xyz="0 0 1.0"/>
      <limit lower="-1.2931" upper="1.29" effort="0.1" velocity="1.0"/>
    </joint>

    <joint name="Untitled.041" type="fixed">
      <origin xyz="0.07032 -0.00214 -0.00337" rpy="0 0 0"/>
      <parent link="Untitled.036"/>
      <child link="Untitled.041"/>
    </joint>

    <joint name="Untitled.042" type="revolute">
      <origin xyz="0.03 0.01 0.00027" rpy="1.5708 0 0"/>
      <parent link="Untitled.041"/>
      <child link="Untitled.042"/>
      <axis xyz="0 0 1.0"/>
      <limit lower="-1.57" upper="0" effort="0.01" velocity="0.1"/>
    </joint>

    <joint name="Untitled.043" type="fixed">
      <origin xyz="0.002 0 0.02" rpy="-1.5708 0 -1.5708"/>
      <parent link="Untitled.042"/>
      <child link="Untitled.043"/>
    </joint>

    <joint name="Untitled.044" type="fixed">
      <origin xyz="0.002 0 0" rpy="-1.5708 0 -1.5708"/>
      <parent link="Untitled.042"/>
      <child link="Untitled.044"/>
    </joint>

    <joint name="Untitled.045" type="fixed">
      <origin xyz="0 0.005 0.1376" rpy="0 0 0"/>
      <parent link="Untitled.009"/>
      <child link="Untitled.045"/>
    </joint>

    <joint name="Untitled.046" type="fixed">
      <origin xyz="0 0 0.15" rpy="0 0 0"/>
      <parent link="Untitled.004"/>
      <child link="Untitled.046"/>
    </joint>

    <joint name="Untitled.047" type="fixed">
      <origin xyz="0 0.08 0" rpy="0 0 0"/>
      <parent link="Untitled.036"/>
      <child link="Untitled.047"/>
    </joint>

    <joint name="Untitled.048" type="continuous">
      <origin xyz="0 0.05 0.00301" rpy="1.5708 0 0"/>
      <parent link="Untitled.047"/>
      <child link="Untitled.048"/>
      <axis xyz="0 0 1.0"/>
      <limit effort="0.01" velocity="0.1"/>
    </joint>

    <joint name="Untitled.049" type="fixed">
      <origin xyz="-0.00292 -0.20261 0.01" rpy="3.14159 0 -0.01439"/>
      <parent link="Untitled.048"/>
      <child link="Untitled.049"/>
    </joint>

    <joint name="Untitled.050" type="fixed">
      <origin xyz="1.25 0 -0.005" rpy="0 0 -1.5708"/>
      <parent link="Untitled.052"/>
      <child link="Untitled.050"/>
    </joint>

    <joint name="Untitled.051" type="fixed">
      <origin xyz="-1.25 0 -0.005" rpy="0 0 -1.5708"/>
      <parent link="Untitled.052"/>
      <child link="Untitled.051"/>
    </joint>

    <material name="Material.001">
      <color rgba="0 0 0 1.0"/>
    </material>

    <material name="Material.002">
      <color rgba="0 0 0 1.0"/>
    </material>

    <material name="Material.003">
      <color rgba="0 0 0 1.0"/>
    </material>

    <material name="Material.004">
      <color rgba="0 0 0 1.0"/>
    </material>

    <material name="Material.005">
      <color rgba="0.64 0.64 0.64 1.0"/>
    </material>

    <material name="Material.008">
      <color rgba="0 0 0 1.0"/>
    </material>

    <material name="Material.009">
      <color rgba="0 0 0 1.0"/>
    </material>

    <material name="Material.010">
      <color rgba="0 0 0 1.0"/>
    </material>

    <material name="Material.011">
      <color rgba="0.64 0.64 0.64 1.0"/>
    </material>

    <material name="Material.012">
      <color rgba="0.16 0.16 0.16 1.0"/>
    </material>

    <material name="Material.013">
      <color rgba="0.16 0.16 0.16 1.0"/>
    </material>

    <material name="Material.014">
      <color rgba="0.64 0.64 0.64 1.0"/>
    </material>

    <material name="Material.015">
      <color rgba="0.16 0.16 0.16 1.0"/>
    </material>

    <material name="Material.016">
      <color rgba="0.16 0.16 0.16 1.0"/>
    </material>

    <material name="Material.017">
      <color rgba="0.64 0.64 0.64 1.0"/>
    </material>

    <material name="Material.018">
      <color rgba="0.16 0.16 0.16 1.0"/>
    </material>

    <material name="Material.019">
      <color rgba="0.16 0.16 0.16 1.0"/>
    </material>

    <material name="Material.020">
      <color rgba="0.64 0.64 0.64 1.0"/>
    </material>

    <material name="Material.021">
      <color rgba="0.76 0.76 0.76 1.0"/>
    </material>

    <material name="Material.022">
      <color rgba="0.76 0.76 0.76 1.0"/>
    </material>

    <material name="Material.023">
      <color rgba="0.76 0.76 0.76 1.0"/>
    </material>

    <material name="Material.024">
      <color rgba="0.76 0.76 0.76 1.0"/>
    </material>

    <material name="Material.025">
      <color rgba="0.64 0.64 0.64 1.0"/>
    </material>

    <material name="Material.026">
      <color rgba="0.09 0.09 0.09 1.0"/>
    </material>

    <material name="Material.027">
      <color rgba="0.76 0.76 0.76 1.0"/>
    </material>

    <material name="Material.028">
      <color rgba="0.48 0.48 0.48 1.0"/>
    </material>

  </robot>
